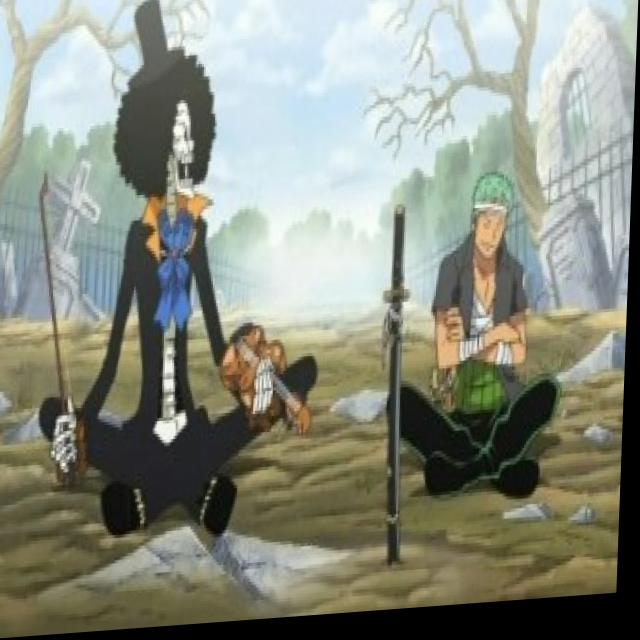Blook: (100, 0, 231, 221)
Zoro: (463, 174, 521, 284)
